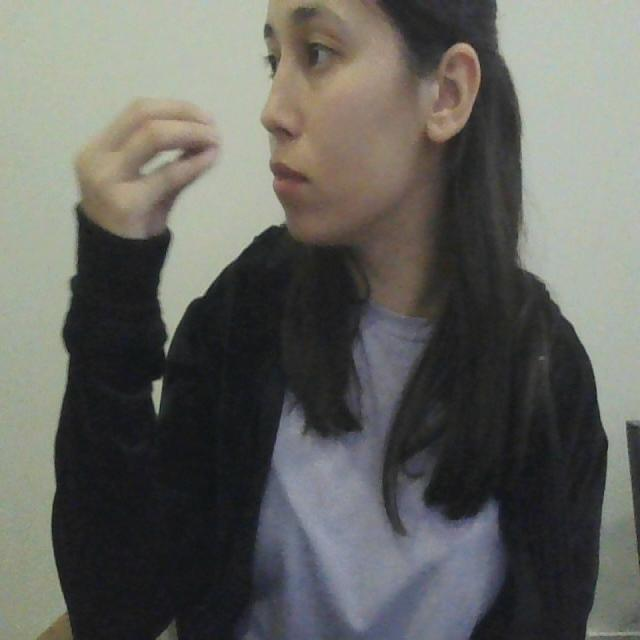Yemek: (63, 96, 317, 206)
